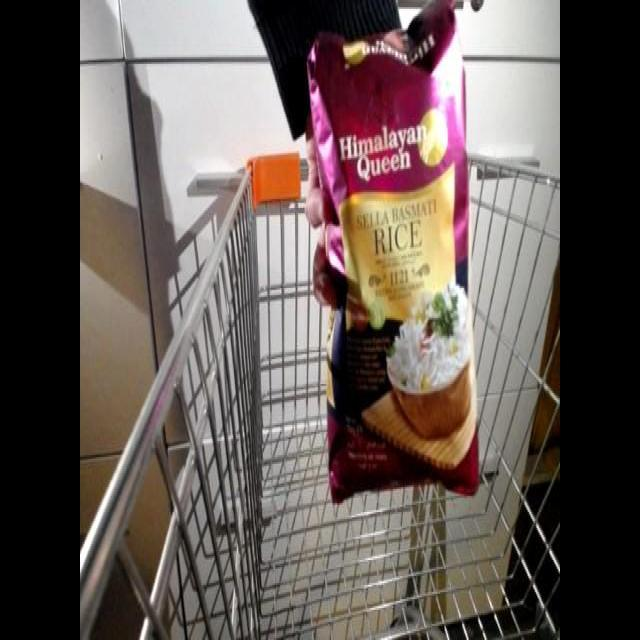Basmati Rice: (306, 5, 483, 512)
